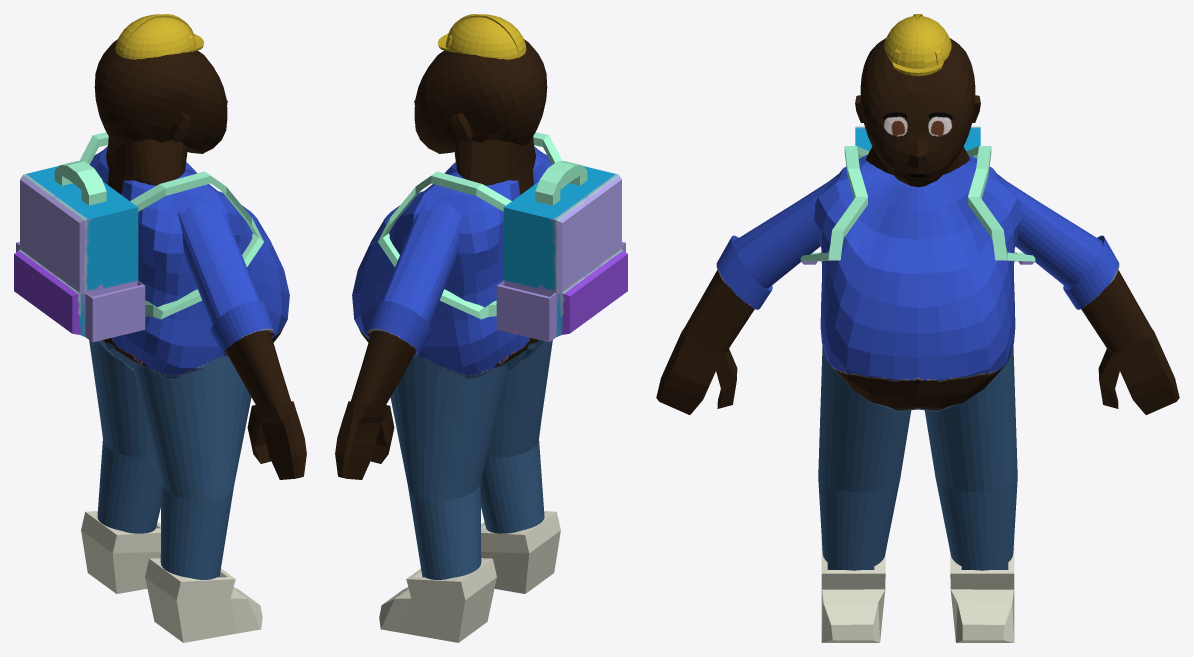
The model's file is Pai.fbx.
The picture shows the model from 3 angles, left to right: view 1: azimuth 30°, elevation 25°; view 2: azimuth 150°, elevation 25°; view 3: azimuth 270°, elevation 25°; orthographic projection.
Parts seen in each view (by area): view 1: Sphere.001; view 2: Sphere.001; view 3: Sphere.001.
Part boxes in pixels (x1,y1,x2,y2): Sphere.001: [14, 14, 306, 642]; Sphere.001: [335, 14, 627, 642]; Sphere.001: [656, 14, 1179, 642].
Bounding box in the file's own units: 118 × 296 × 235.
